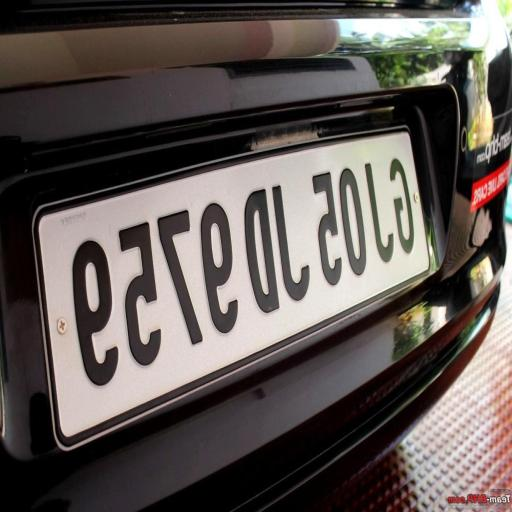License: (46, 121, 424, 407)
